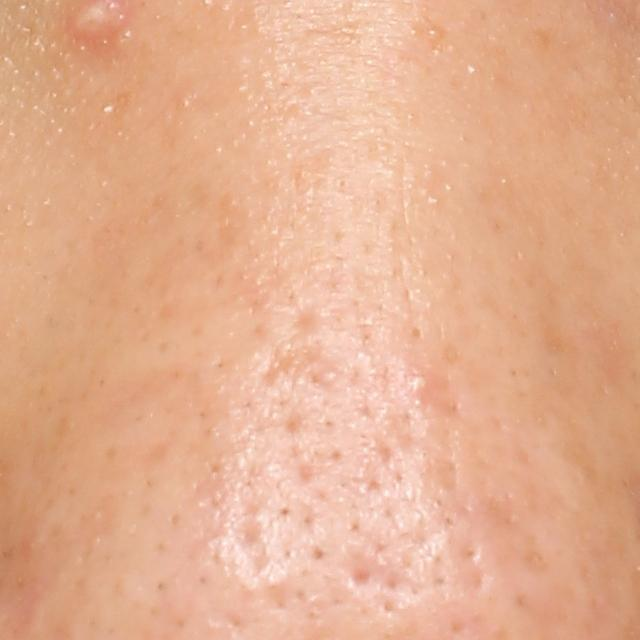atrophic_scar: (258, 334, 348, 394)
